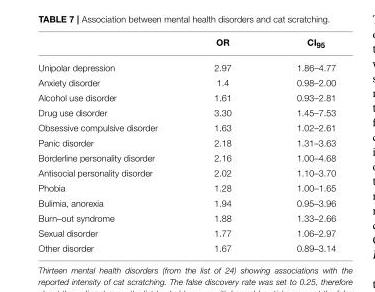table: (37, 37, 335, 252)
table column: (37, 37, 185, 252), (185, 37, 263, 252), (263, 37, 335, 252)
table column header: (37, 37, 335, 55)
table row: (37, 55, 335, 75), (37, 37, 335, 55), (37, 75, 335, 90), (37, 90, 335, 105), (37, 105, 335, 120), (37, 120, 335, 135), (37, 135, 335, 150), (37, 150, 335, 165), (37, 165, 335, 180), (37, 180, 335, 195), (37, 195, 335, 210), (37, 210, 335, 225), (37, 225, 335, 240), (37, 240, 335, 252)
